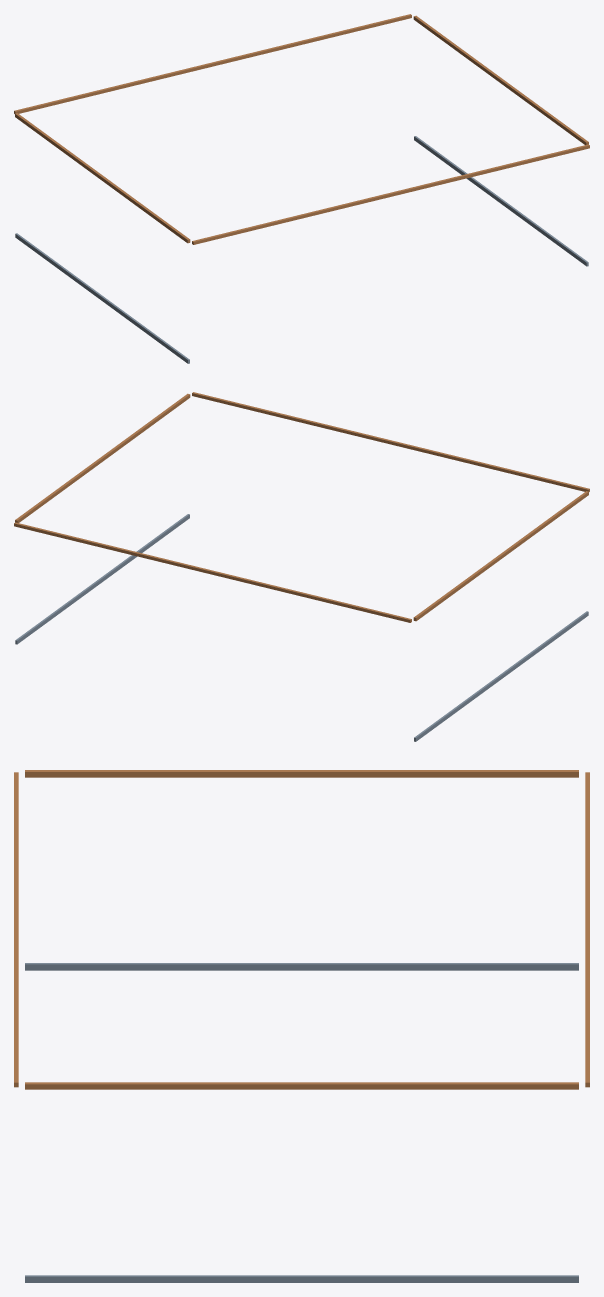
Rendered from 18_PS_Studio_TrimAndConduit.fbx.
3 views of the same model, one above another, from view 1: azimuth 30°, elevation 25°; view 2: azimuth 150°, elevation 25°; view 3: azimuth 270°, elevation 25° (orthographic). The views are drawn at different scales.
Visible parts, largest first — view 1: PS_Studio_TrimAndConduit; view 2: PS_Studio_TrimAndConduit; view 3: PS_Studio_TrimAndConduit.
Part boxes in pixels (x1=…): PS_Studio_TrimAndConduit: x1=14, y1=14, x2=589, y2=363; PS_Studio_TrimAndConduit: x1=14, y1=392, x2=589, y2=741; PS_Studio_TrimAndConduit: x1=14, y1=770, x2=589, y2=1282.
Bounding box in the file's own units: 1731 × 511 × 1341.
